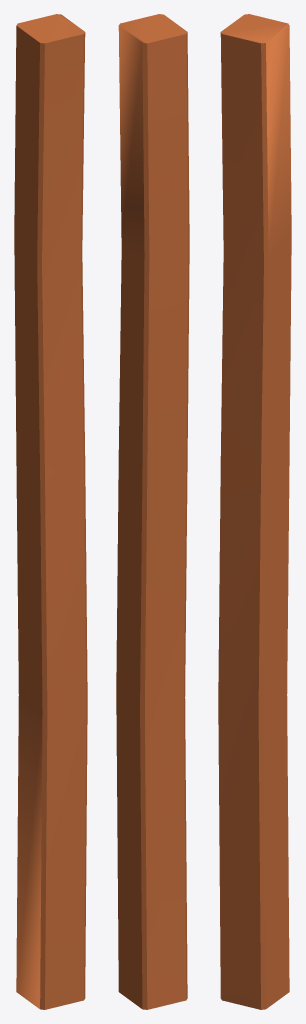
The model's file is VertBeam.fbx.
The picture shows the model from 3 angles, left to right: view 1: azimuth 30°, elevation 25°; view 2: azimuth 210°, elevation 25°; view 3: azimuth 330°, elevation 25°; orthographic projection.
Parts seen in each view (by area): view 1: Box044; view 2: Box044; view 3: Box044.
Part boxes in pixels (x1,y1,x2,y2): Box044: (14,14,87,1009); Box044: (116,14,189,1009); Box044: (218,14,291,1009).
Size of the model in its own units: 8.84 by 10.76 by 181.
